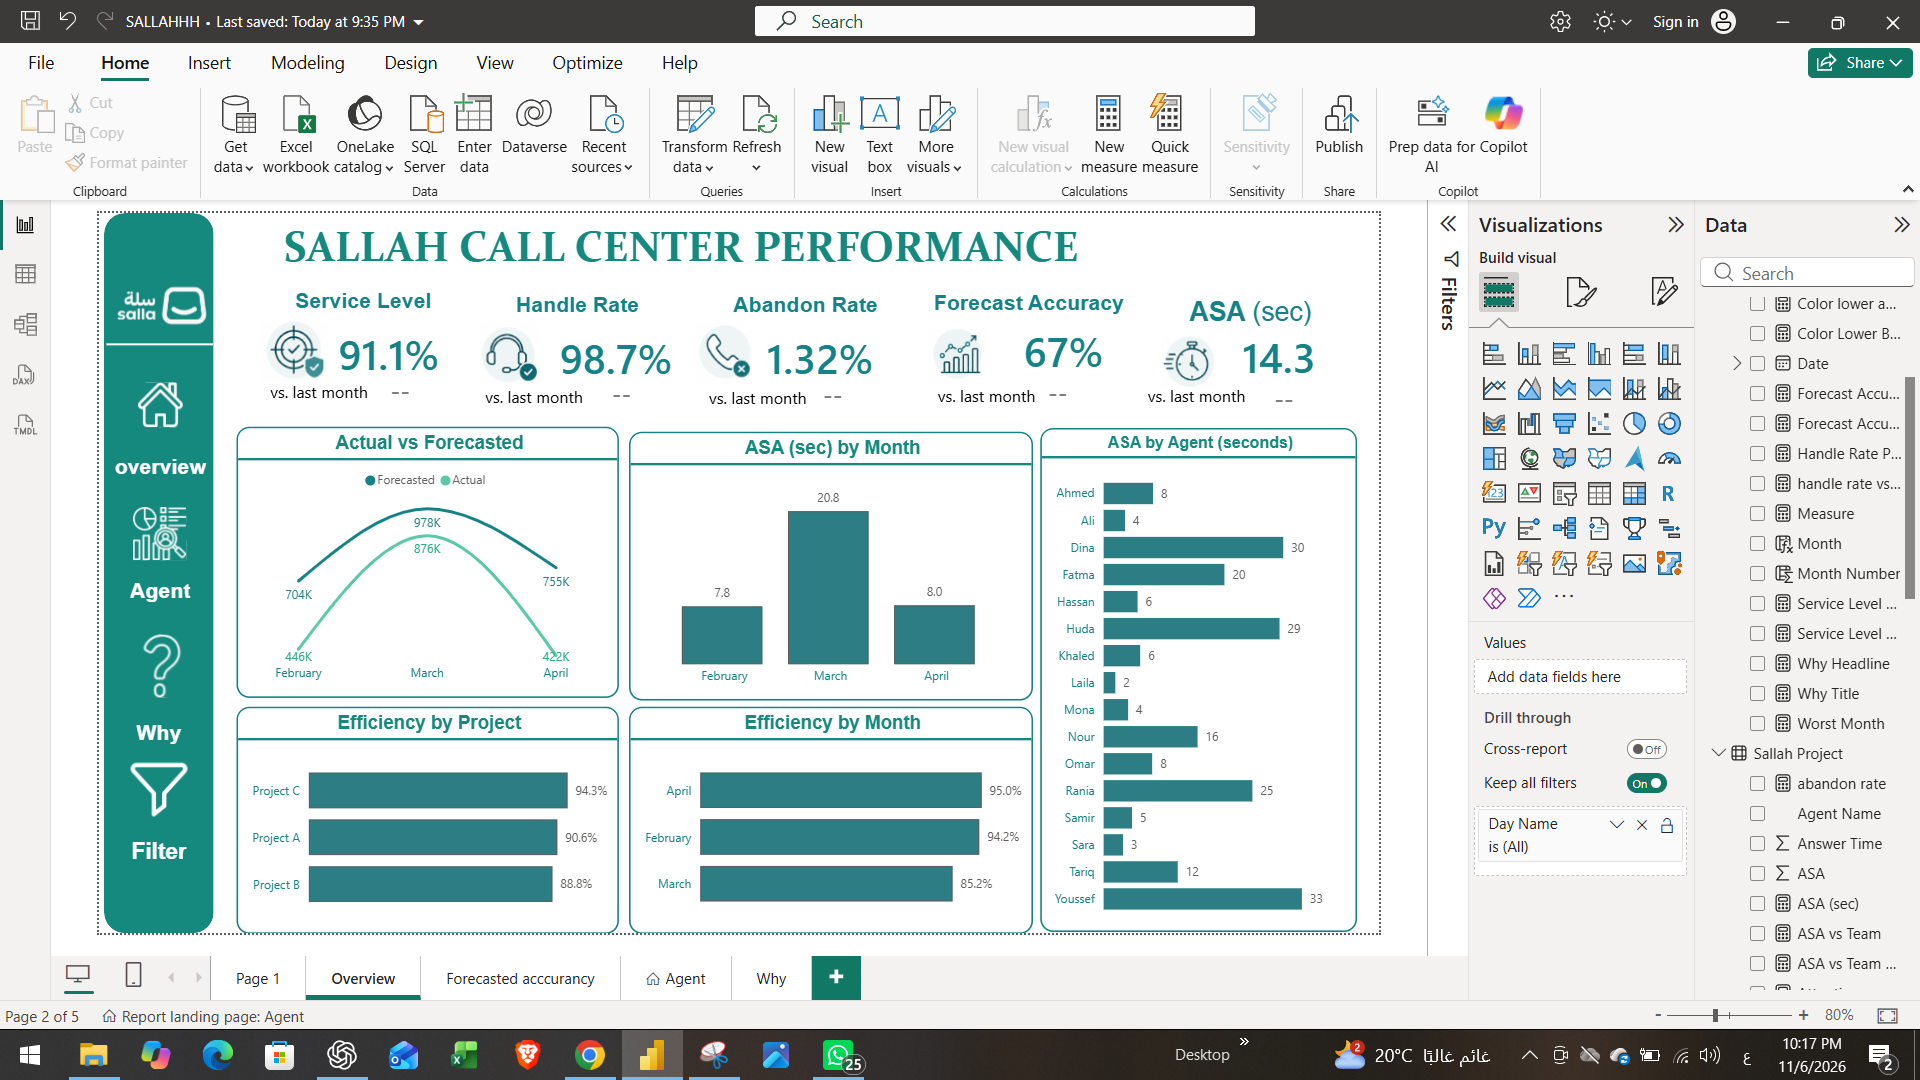

What the dashboard file says about the page in this screenshot:
{"tool":"powerbi","page":{"name":"Overview","canvas":[1280,720],"ordinal":1},"visuals":[{"type":"textbox","box":[103,8.2,621.4,52.9],"z":0,"group":"g2"},{"type":"shape","box":[4.8,0,109.8,720.2],"z":1000},{"type":"slicer","fields":{"Values":["Calendar.Month"]},"box":[728.1,2.2,171.3,71.2],"z":1000,"group":"g2"},{"type":"actionButton","box":[826.5,100.4,65.4,79.3],"z":1000,"group":"g1"},{"type":"slicer","fields":{"Values":["Sallah Project.Project"]},"box":[896,2.5,171.1,71],"z":2000,"group":"g2"},{"type":"textbox","box":[1071,78.2,160.5,45.3],"z":2000,"group":"g1"},{"type":"slicer","fields":{"Values":["Sallah Project.Agent Name"]},"box":[1067.2,3.6,171.1,58.4],"z":3000,"group":"g2"},{"type":"actionButton","box":[132.2,100.4,126.6,75.1],"z":3000,"group":"g1"},{"type":"barChart","title":"ASA by Agent (seconds)","fields":{"Category":["Sallah Project.Agent Name"],"Y":["Sallah Project.ASA (sec)"]},"box":[940.8,215.4,317.1,504.3],"z":3000},{"type":"cardVisual","fields":{"Data":["Sallah Project.Handle Rate %"]},"box":[420.9,85.8,192.5,112.5],"z":4000,"group":"g1"},{"type":"lineChart","title":"Actual vs Forecasted","fields":{"Category":["Calendar.Month"],"Y":["Sum(Sallah Project.Forecasted Calls)","Sum(Sallah Project.Calls Offered)"]},"box":[137.1,214.3,382.6,271.3],"z":4000},{"type":"group","id":"g1","title":"Group 1","box":[132.2,64.5,1144.2,150.2],"z":5000},{"type":"actionButton","box":[352,107.1,114.1,68.2],"z":5000,"group":"g1"},{"type":"textbox","box":[369.3,74.8,217,45.9],"z":6000,"group":"g1"},{"type":"barChart","title":"Efficiency by Project","fields":{"Category":["Sallah Project.Project"],"Y":["Sallah Project.efficiency"]},"box":[137.2,493.5,382.5,227.5],"z":6000},{"type":"textbox","box":[591.9,74.6,228.2,48.7],"z":7000,"group":"g1"},{"type":"barChart","title":"Efficiency by Month","fields":{"Category":["Calendar.Month"],"Y":["Sallah Project.efficiency"]},"box":[529.9,493.1,404.2,226.8],"z":7000},{"type":"textbox","box":[825.1,72.6,210.1,50.1],"z":8000,"group":"g1"},{"type":"columnChart","fields":{"Category":["Calendar.Month","Sallah Project.Day Name"],"Y":["Sallah Project.ASA (sec)"]},"box":[530.4,218.1,404.2,269],"z":8000},{"type":"textbox","box":[165.6,71.2,196.2,34.8],"z":9000,"group":"g1"},{"type":"actionButton","box":[34.8,146.1,52.9,91.8],"z":9000},{"type":"cardVisual","fields":{"Data":["Sallah Project.abandon rate"]},"box":[621,70.8,200,142.5],"z":10000,"group":"g1"},{"type":"actionButton","box":[27.8,417.4,90.4,71],"z":10000},{"type":"cardVisual","fields":{"Data":["Sallah Project.ASA (sec)"]},"box":[1107.3,75.4,145.5,131.7],"z":11000,"group":"g1"},{"type":"cardVisual","fields":{"Data":["Sallah Project.Service Level %"]},"box":[197.5,86.8,185.8,103.8],"z":12000,"group":"g1"},{"type":"actionButton","box":[30.6,289.4,65.4,61.2],"z":12000},{"type":"group","id":"g2","title":"Group 2","box":[103,2.2,1135.3,71.2],"z":13000},{"type":"cardVisual","fields":{"Data":["Sallah Project.Forecast Accuracy %"]},"box":[863.6,64.5,202.5,141.2],"z":13000,"group":"g1"},{"type":"textbox","box":[1043.6,165.9,124.3,40],"z":14000,"group":"g1"},{"type":"actionButton","box":[27.1,544.3,82.9,67.1],"z":14000},{"type":"actionButton","box":[589.1,99.6,71,80.7],"z":15000},{"type":"cardVisual","fields":{"Data":["Calendar.ASA vs LM"]},"box":[1146,153,130.4,61.7],"z":15000,"group":"g1"},{"type":"actionButton","box":[1040.7,119.1,96,61.2],"z":16000},{"type":"textbox","box":[604.4,167.8,115.5,43.1],"z":16000,"group":"g1"},{"type":"actionButton","box":[11.1,229.6,100.2,48.7],"z":17000},{"type":"actionButton","box":[11.1,353.4,100.2,48.7],"z":18000},{"type":"actionButton","box":[10,495.7,100,48.6],"z":19000},{"type":"actionButton","box":[12.9,621.4,100,47.1],"z":20000},{"type":"actionButton","box":[0.3,22.3,132.7,92.9],"z":21000},{"type":"textbox","box":[165.7,162.9,118.6,41.4],"z":23000},{"type":"textbox","box":[380.7,167.8,125.2,43.1],"z":24000},{"type":"cardVisual","fields":{"Data":["Calendar.Service Level vs LM"]},"box":[263,145,115.8,63.9],"z":25000},{"type":"cardVisual","fields":{"Data":["Calendar.Forecast Accuracy vs LM"]},"box":[919.7,146.4,130.3,63.9],"z":26000},{"type":"cardVisual","fields":{"Data":["Calendar.Abandon Rate vs LM"]},"box":[694.8,148.3,118.3,64],"z":27000},{"type":"cardVisual","fields":{"Data":["Calendar.handle rate vs LM"]},"box":[483.6,146.9,115.8,63.9],"z":28000},{"type":"textbox","box":[833.4,166.4,125.2,44.5],"z":29000},{"type":"shape","box":[7.4,104.2,106.7,55.2],"z":30000}]}

Visuals, with their boxes on the page's 1280x720 design canvas (x1, y1, x2, y2). These are canvas units, not pixel positions in the 1920x1080 screenshot, which may show the page scaled, cropped or inside an application window:
textbox: Rect(103, 8, 724, 61)
shape: Rect(5, 0, 115, 720)
slicer - Calendar.Month: Rect(728, 2, 899, 73)
actionButton: Rect(826, 100, 892, 180)
slicer - Sallah Project.Project: Rect(896, 2, 1067, 74)
textbox: Rect(1071, 78, 1232, 124)
slicer - Sallah Project.Agent Name: Rect(1067, 4, 1238, 62)
actionButton: Rect(132, 100, 259, 176)
"ASA by Agent (seconds)" barChart: Rect(941, 215, 1258, 720)
cardVisual - Sallah Project.Handle Rate %: Rect(421, 86, 613, 198)
"Actual vs Forecasted" lineChart: Rect(137, 214, 520, 486)
"Group 1" group: Rect(132, 64, 1276, 215)
actionButton: Rect(352, 107, 466, 175)
textbox: Rect(369, 75, 586, 121)
"Efficiency by Project" barChart: Rect(137, 494, 520, 721)
textbox: Rect(592, 75, 820, 123)
"Efficiency by Month" barChart: Rect(530, 493, 934, 720)
textbox: Rect(825, 73, 1035, 123)
columnChart - Calendar.Month x Sallah Project.Day Name: Rect(530, 218, 935, 487)
textbox: Rect(166, 71, 362, 106)
actionButton: Rect(35, 146, 88, 238)
cardVisual - Sallah Project.abandon rate: Rect(621, 71, 821, 213)
actionButton: Rect(28, 417, 118, 488)
cardVisual - Sallah Project.ASA (sec): Rect(1107, 75, 1253, 207)
cardVisual - Sallah Project.Service Level %: Rect(198, 87, 383, 191)
actionButton: Rect(31, 289, 96, 351)
"Group 2" group: Rect(103, 2, 1238, 73)
cardVisual - Sallah Project.Forecast Accuracy %: Rect(864, 64, 1066, 206)
textbox: Rect(1044, 166, 1168, 206)
actionButton: Rect(27, 544, 110, 611)
actionButton: Rect(589, 100, 660, 180)
cardVisual - Calendar.ASA vs LM: Rect(1146, 153, 1276, 215)
actionButton: Rect(1041, 119, 1137, 180)
textbox: Rect(604, 168, 720, 211)
actionButton: Rect(11, 230, 111, 278)
actionButton: Rect(11, 353, 111, 402)
actionButton: Rect(10, 496, 110, 544)
actionButton: Rect(13, 621, 113, 668)
actionButton: Rect(0, 22, 133, 115)
textbox: Rect(166, 163, 284, 204)
textbox: Rect(381, 168, 506, 211)
cardVisual - Calendar.Service Level vs LM: Rect(263, 145, 379, 209)
cardVisual - Calendar.Forecast Accuracy vs LM: Rect(920, 146, 1050, 210)
cardVisual - Calendar.Abandon Rate vs LM: Rect(695, 148, 813, 212)
cardVisual - Calendar.handle rate vs LM: Rect(484, 147, 599, 211)
textbox: Rect(833, 166, 959, 211)
shape: Rect(7, 104, 114, 159)
